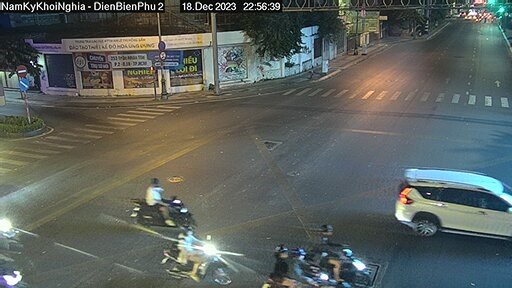car: (395, 165, 512, 241)
motorbike: (161, 231, 238, 287), (255, 246, 339, 288), (310, 227, 372, 280), (131, 184, 200, 230)
